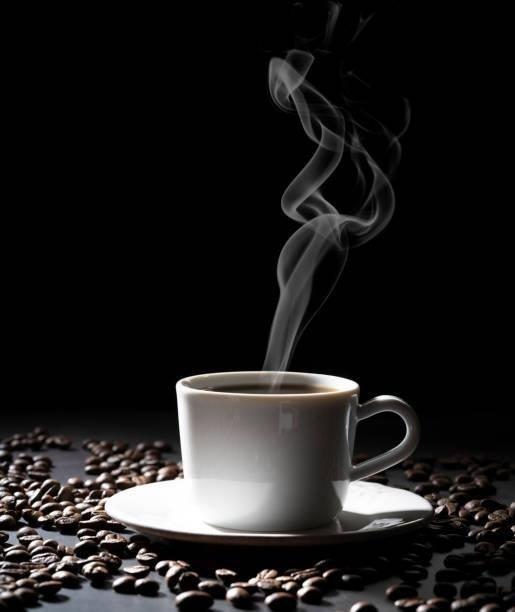cup-handle: (167, 369, 414, 533)
